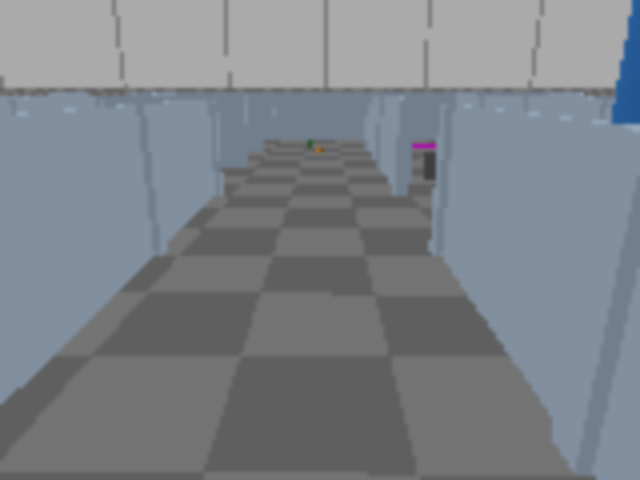person: (592, 0, 638, 356)
